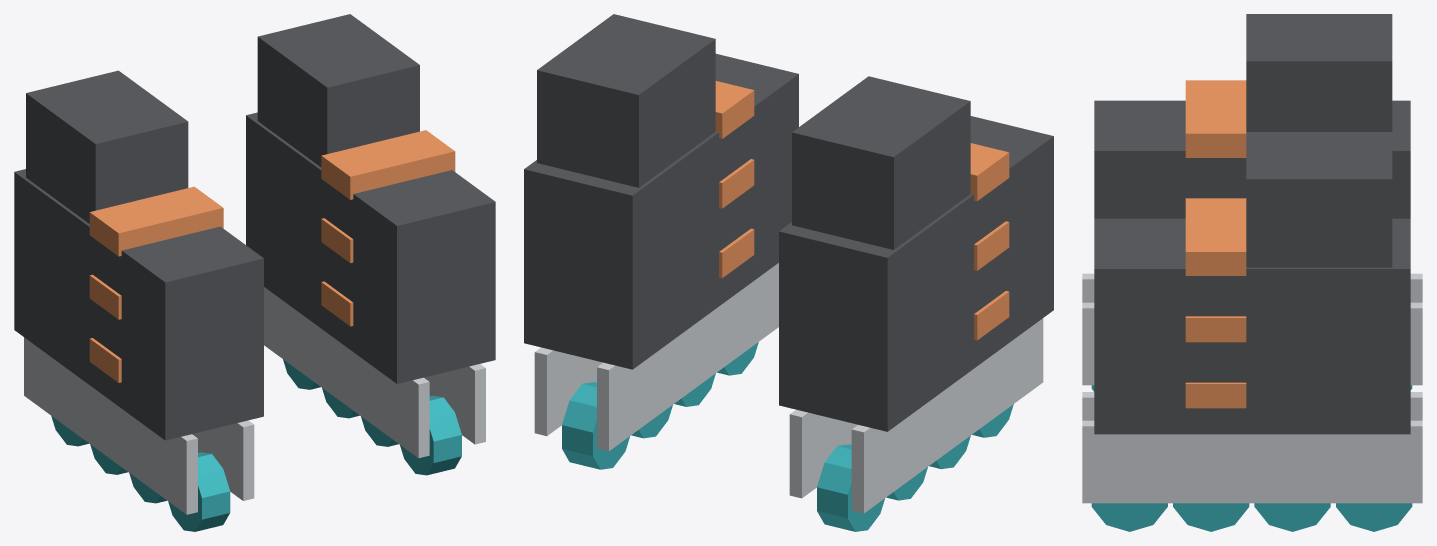
Rendered from inline-skates.glb.
The picture shows the model from 3 angles, left to right: view 1: azimuth 30°, elevation 25°; view 2: azimuth 150°, elevation 25°; view 3: azimuth 270°, elevation 25°; orthographic projection. The views are drawn at different scales.
Parts seen in each view (by area): view 1: inline-skates-charcoal, inline-skates-steel, inline-skates-sunset, inline-skates-teal; view 2: inline-skates-charcoal, inline-skates-steel, inline-skates-teal, inline-skates-sunset; view 3: inline-skates-charcoal, inline-skates-steel, inline-skates-sunset, inline-skates-teal.
Part boxes in pixels (left/top/right/bottom): inline-skates-charcoal: left=14, top=14, right=495, bottom=440; inline-skates-steel: left=24, top=287, right=485, bottom=514; inline-skates-sunset: left=89, top=130, right=455, bottom=382; inline-skates-teal: left=51, top=359, right=461, bottom=531; inline-skates-charcoal: left=524, top=14, right=1053, bottom=431; inline-skates-steel: left=534, top=263, right=1043, bottom=513; inline-skates-teal: left=562, top=342, right=1013, bottom=531; inline-skates-sunset: left=715, top=81, right=1009, bottom=340; inline-skates-charcoal: left=1094, top=14, right=1410, bottom=434; inline-skates-steel: left=1082, top=273, right=1422, bottom=503; inline-skates-sunset: left=1185, top=80, right=1246, bottom=408; inline-skates-teal: left=1091, top=385, right=1412, bottom=531.
Size of the model in its own units: 0.334 by 0.335 by 0.28.
